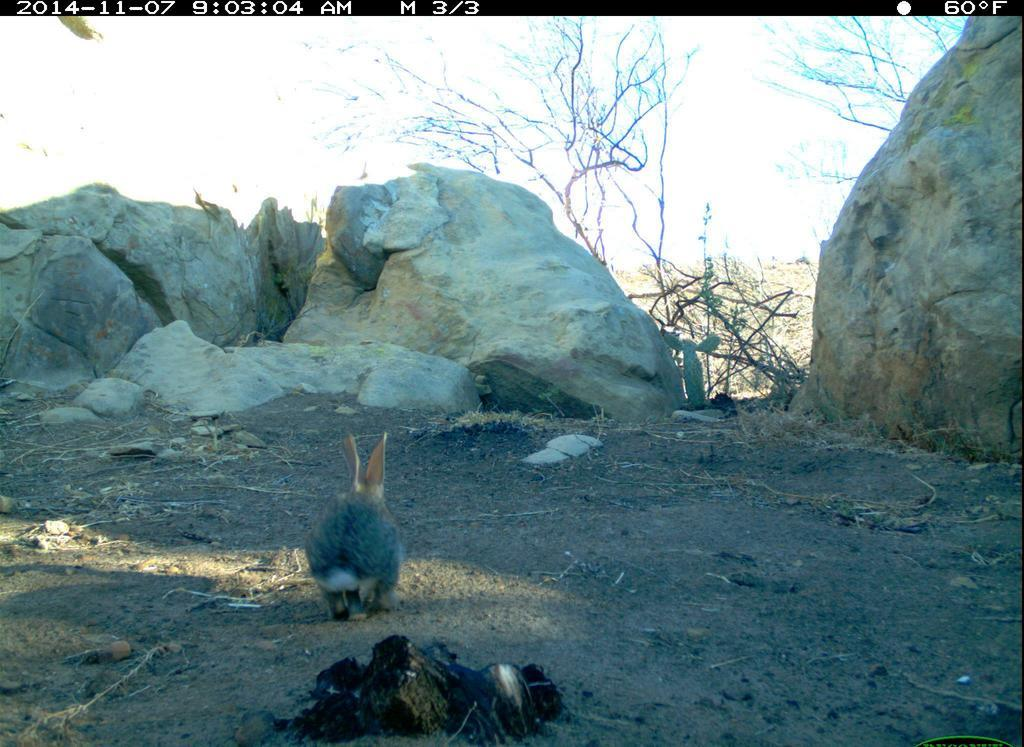rabbit: (297, 428, 418, 629)
